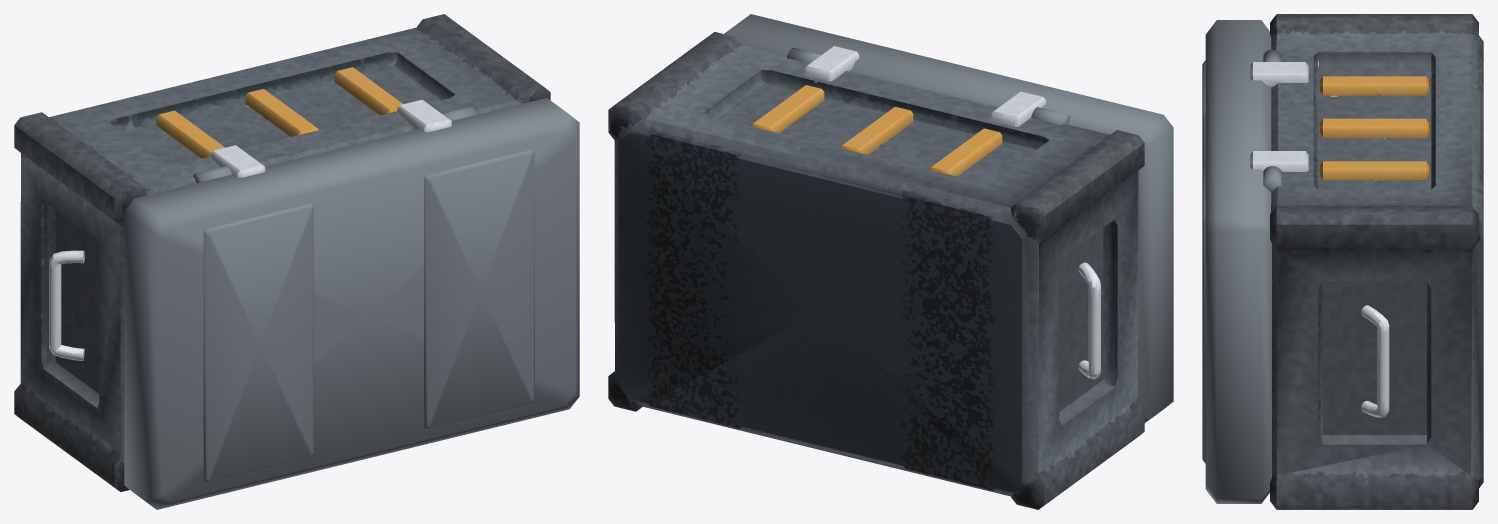
The model's file is sci_fi_crate_godot.glb.
3 views of the same model, side by side, from view 1: azimuth 30°, elevation 25°; view 2: azimuth 150°, elevation 25°; view 3: azimuth 270°, elevation 25° (orthographic). The views are drawn at different scales.
Visible parts, largest first — view 1: lid_mesh, SM_sci_fi_crate_Body; view 2: SM_sci_fi_crate_Body, lid_mesh; view 3: SM_sci_fi_crate_Body, lid_mesh.
Boxes of the visible parts, <box> form: lid_mesh: <box>124,98,579,509</box>; SM_sci_fi_crate_Body: <box>14,14,550,491</box>; SM_sci_fi_crate_Body: <box>608,32,1144,509</box>; lid_mesh: <box>724,14,1173,422</box>; SM_sci_fi_crate_Body: <box>1250,14,1483,509</box>; lid_mesh: <box>1202,20,1281,503</box>.
Size of what is drawn, in the model's own units: 0.926 by 0.596 by 0.506.
Materials: 2 (1 with a texture image).
